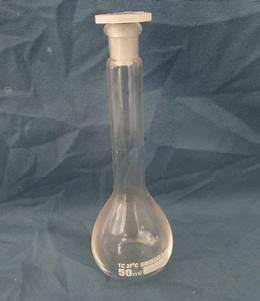Volumetric flask: (85, 9, 174, 275)
